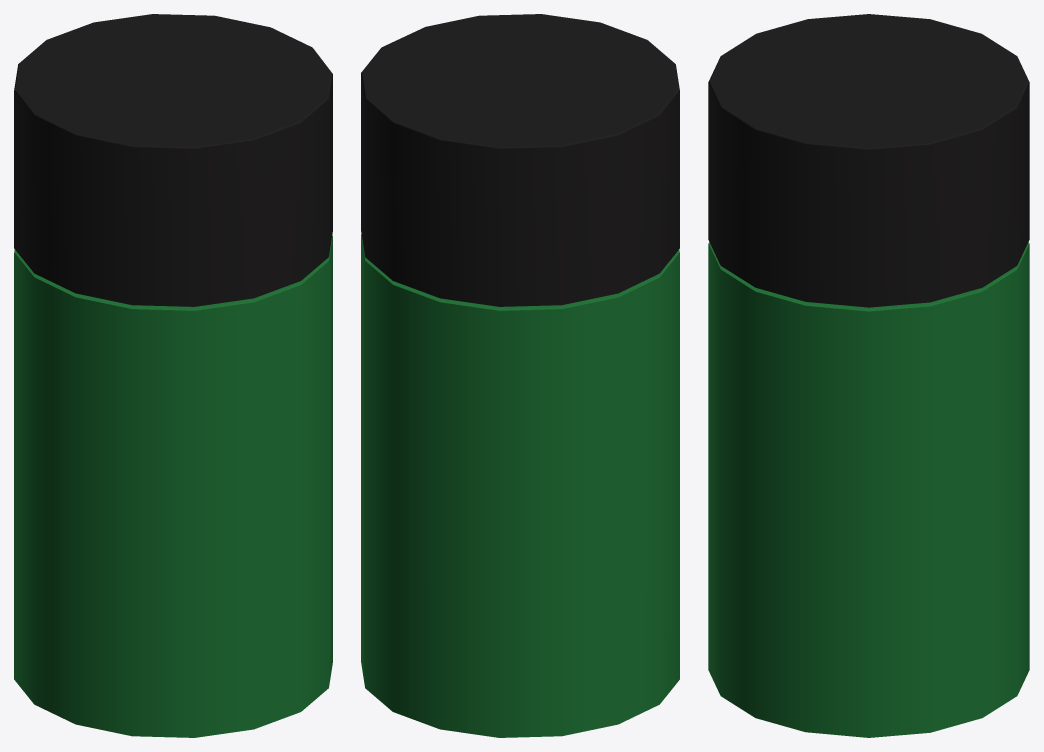
The picture shows the model from 3 angles, left to right: view 1: azimuth 30°, elevation 25°; view 2: azimuth 150°, elevation 25°; view 3: azimuth 270°, elevation 25°; orthographic projection.
Visible parts, largest first — view 1: pCylinder3; view 2: pCylinder3; view 3: pCylinder3.
Boxes of the visible parts, box(x1,y1,x2,y2) form: pCylinder3: box(14, 14, 332, 737); pCylinder3: box(361, 14, 679, 737); pCylinder3: box(708, 14, 1029, 737).
Bounding box in the file's own units: 2 × 4.05 × 2.
